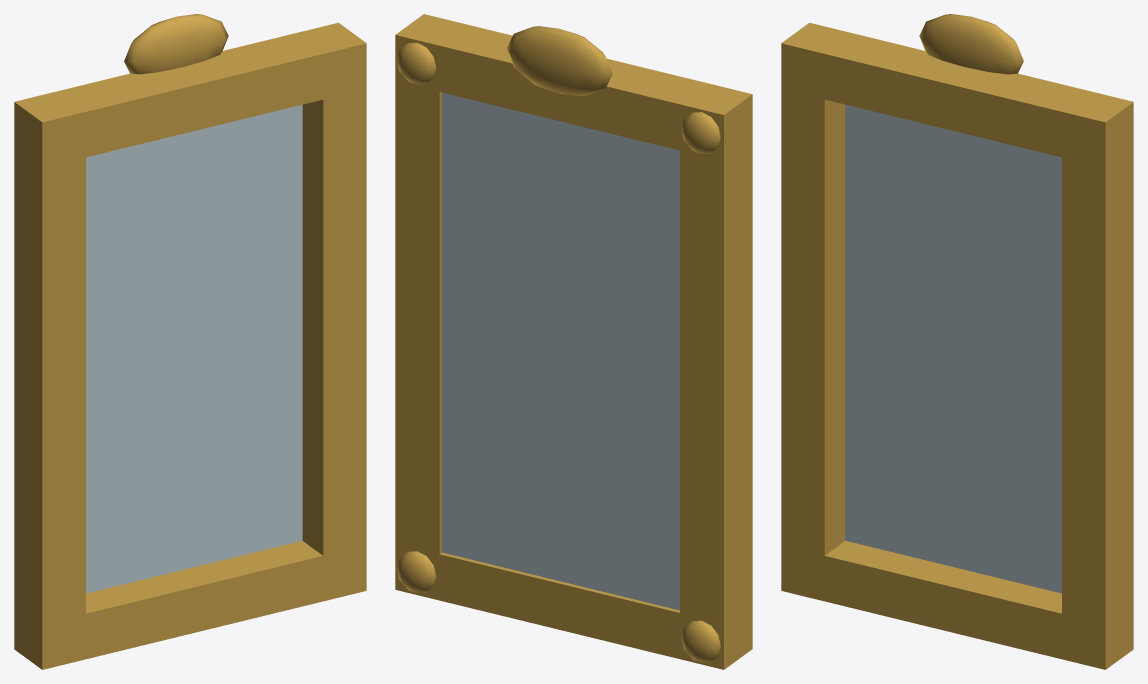
Rendered from SM_ENV_MolduraS.fbx.
The picture shows the model from 3 angles, left to right: view 1: azimuth 30°, elevation 25°; view 2: azimuth 150°, elevation 25°; view 3: azimuth 330°, elevation 25°; orthographic projection.
Visible parts, largest first — view 1: SM_ENV_MolduraS; view 2: SM_ENV_MolduraS; view 3: SM_ENV_MolduraS.
Part boxes in pixels (x1,y1,x2,y2): SM_ENV_MolduraS: (14,14,366,669); SM_ENV_MolduraS: (395,14,752,669); SM_ENV_MolduraS: (781,14,1133,669).
Size of the model in its own units: 0.372 by 0.65 by 0.071.
